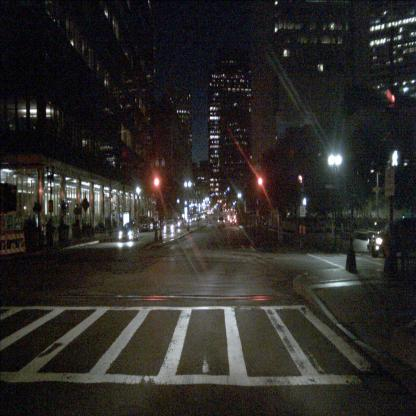vehicle-bus-rigid: (268, 208, 280, 230)
vehicle-car: (367, 216, 415, 259), (118, 222, 139, 242), (164, 219, 176, 234), (142, 218, 154, 233), (152, 220, 161, 231), (173, 217, 182, 227), (218, 217, 226, 228), (158, 217, 165, 229), (230, 217, 237, 226), (192, 214, 198, 222), (200, 213, 206, 220), (186, 217, 192, 224)
